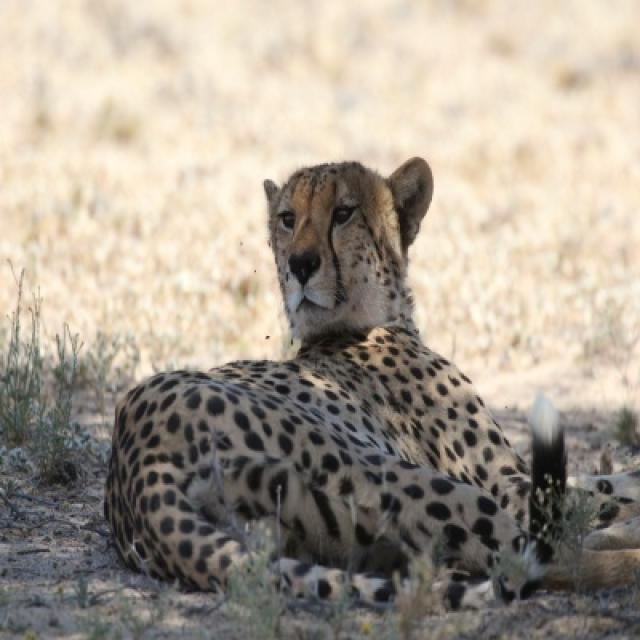Cheetah: (102, 158, 566, 610)
